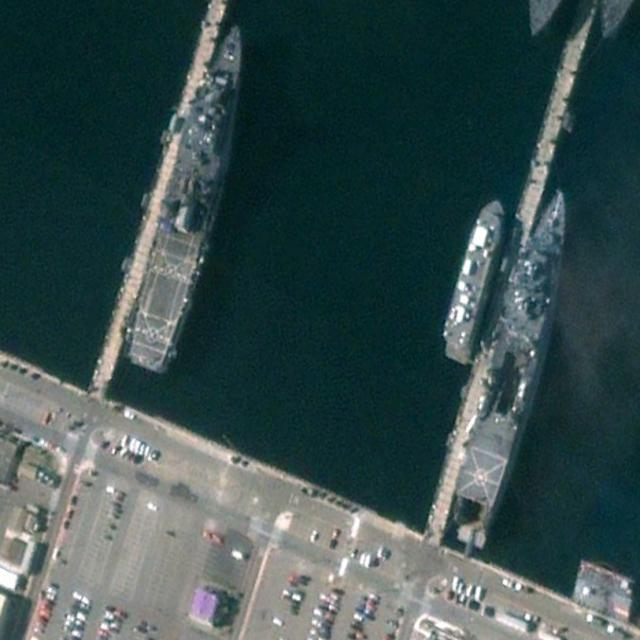Landing: (121, 14, 264, 379)
Other Ship: (435, 192, 514, 366)
Other Warship: (441, 177, 586, 551)
